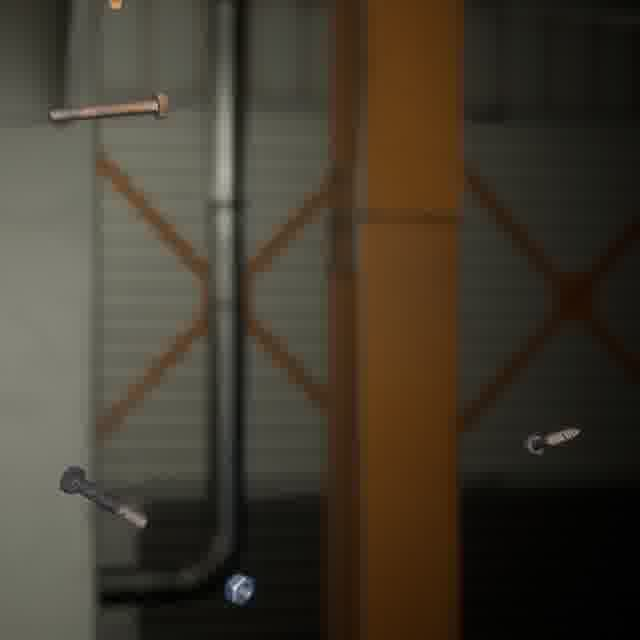bolt: (55, 461, 151, 533), (43, 89, 173, 126), (519, 423, 584, 459)
nut: (220, 568, 258, 609)
